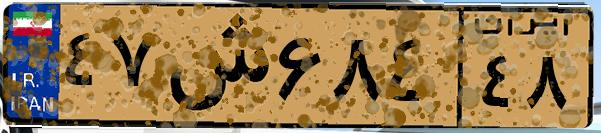4: (385, 28, 445, 110), (57, 26, 110, 100), (475, 38, 525, 113)
6: (270, 28, 330, 110)
7: (110, 28, 158, 98)
8: (330, 28, 385, 110), (525, 38, 570, 115)
ش: (158, 12, 270, 120)
